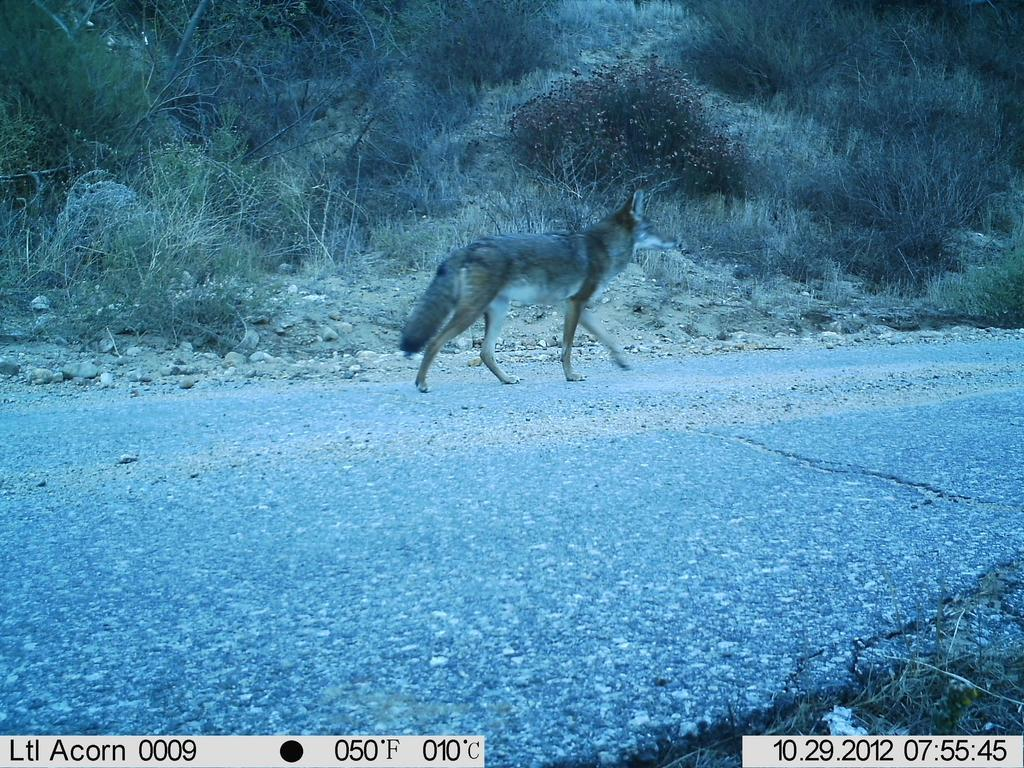coyote: (395, 183, 679, 399)
